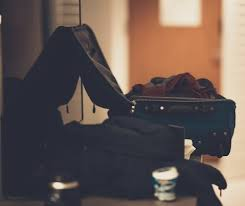suitcase: (65, 22, 237, 163)
